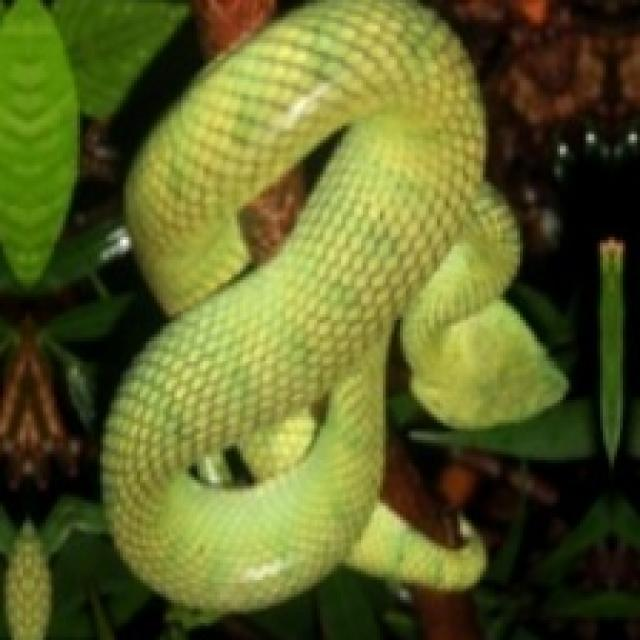north ph temple pitviper: (103, 0, 563, 609), (237, 126, 346, 266)
